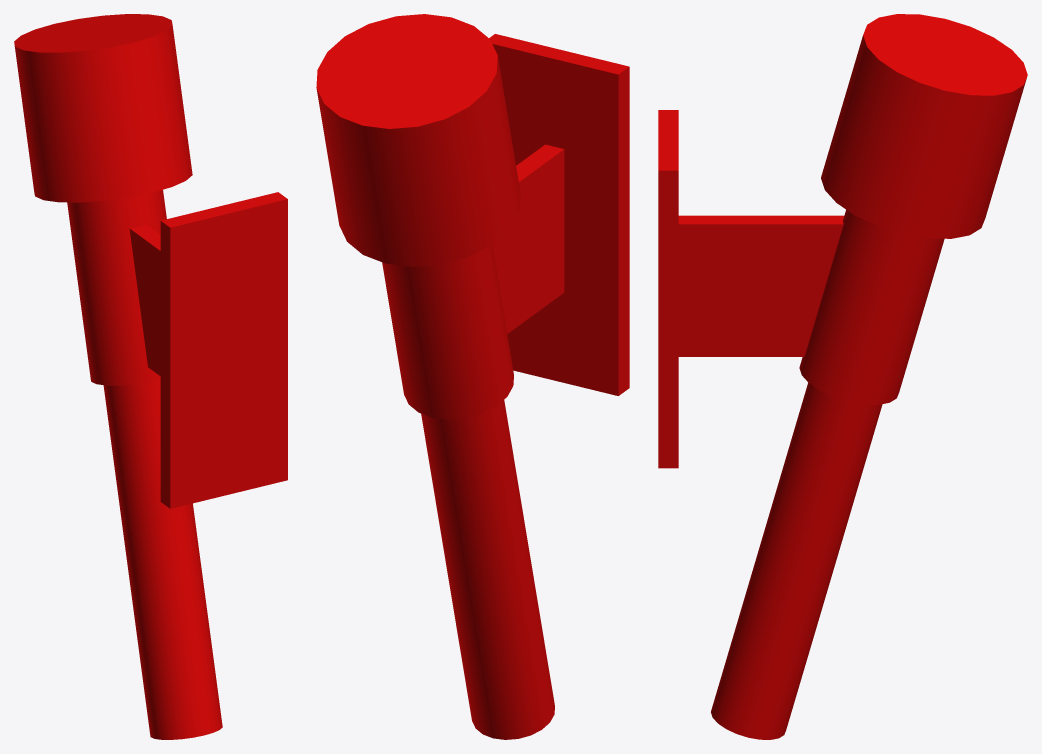
File: Light01Collider.fbx
3 renders of one model, left to right at view 1: azimuth 30°, elevation 25°; view 2: azimuth 150°, elevation 25°; view 3: azimuth 270°, elevation 25°, orthographic. The views are drawn at different scales.
Visible parts, largest first — view 1: Light01Collision; view 2: Light01Collision; view 3: Light01Collision.
Boxes of the visible parts, x1=… form: Light01Collision: x1=14, y1=14, x2=287, y2=739; Light01Collision: x1=316, y1=14, x2=629, y2=739; Light01Collision: x1=658, y1=14, x2=1027, y2=739.
Size of the model in its own units: 14.84 by 66.79 by 32.17.
